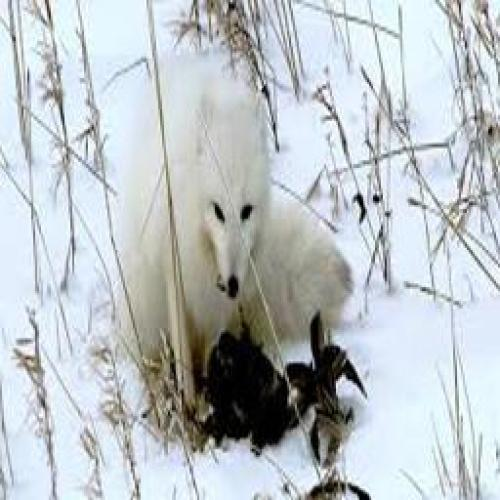arctic_fox-endangered: (97, 47, 356, 388)
